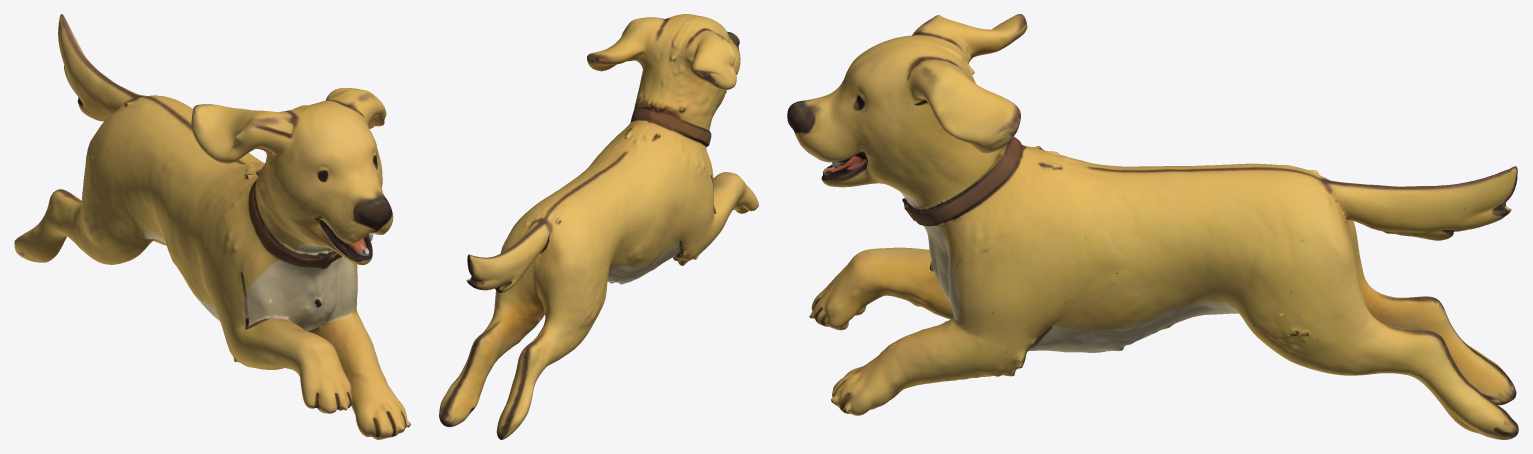
The model's file is pet_dog_run_2.glb.
The picture shows the model from 3 angles, left to right: view 1: azimuth 30°, elevation 25°; view 2: azimuth 150°, elevation 25°; view 3: azimuth 270°, elevation 25°; orthographic projection. The views are drawn at different scales.
Parts seen in each view (by area): view 1: Mesh_0.005; view 2: Mesh_0.005; view 3: Mesh_0.005.
Boxes of the visible parts, x1,y1,x2,y2 form: Mesh_0.005: (14, 14, 410, 439); Mesh_0.005: (439, 14, 758, 439); Mesh_0.005: (787, 14, 1518, 439).
Size of the model in its own units: 0.6263 by 1.13 by 2.
1 material, 1 textured.
